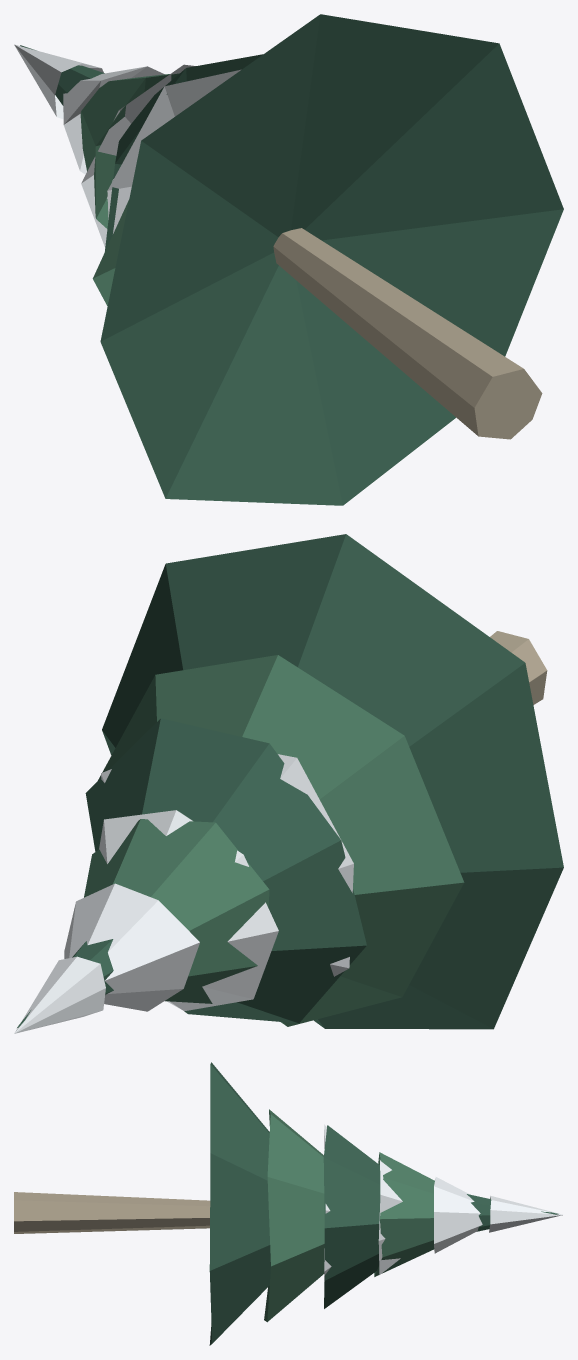
The model's file is TreeConiferD2.fbx.
The picture shows the model from 3 angles, top to bottom: view 1: azimuth 30°, elevation 25°; view 2: azimuth 150°, elevation 25°; view 3: azimuth 270°, elevation 25°; orthographic projection. The views are drawn at different scales.
Visible parts, largest first — view 1: M_Tree_Pine_Dark, M_Tree_PaleWood, M_Tree_Snow, M_Tree_Pine_Mid; view 2: M_Tree_Pine_Dark, M_Tree_Pine_Mid, M_Tree_Snow, M_Tree_PaleWood; view 3: M_Tree_Pine_Dark, M_Tree_Pine_Mid, M_Tree_PaleWood, M_Tree_Snow.
Part boxes in pixels (box(x1,y1,x2,y2)): M_Tree_Pine_Dark: box(20, 14, 563, 505); M_Tree_PaleWood: box(273, 228, 542, 439); M_Tree_Snow: box(14, 44, 241, 247); M_Tree_Pine_Mid: box(80, 73, 179, 305); M_Tree_Pine_Dark: box(17, 534, 563, 1029); M_Tree_Pine_Mid: box(84, 655, 464, 1026); M_Tree_Snow: box(14, 754, 353, 1033); M_Tree_PaleWood: box(490, 631, 547, 704); M_Tree_Pine_Dark: box(209, 1062, 558, 1345); M_Tree_Pine_Mid: box(264, 1109, 434, 1322); M_Tree_PaleWood: box(14, 1192, 210, 1233); M_Tree_Snow: box(324, 1124, 563, 1281).
Bounding box in the file's own units: 20.83 × 21.44 × 38.72.
